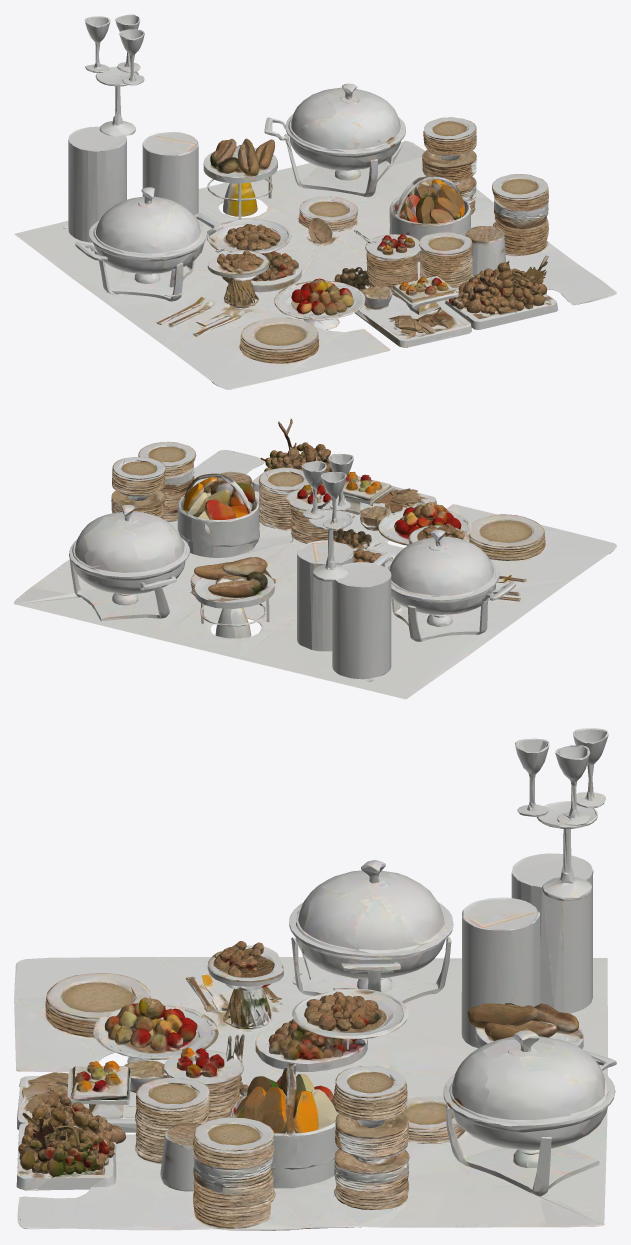
File: buffetTable.glb
3 views of the same model, one above another, from view 1: azimuth 30°, elevation 25°; view 2: azimuth 150°, elevation 25°; view 3: azimuth 270°, elevation 25° (orthographic). The views are drawn at different scales.
Size of the model in its own units: 1.9 by 0.8986 by 1.73.
Materials: 1 (1 with a texture image).
